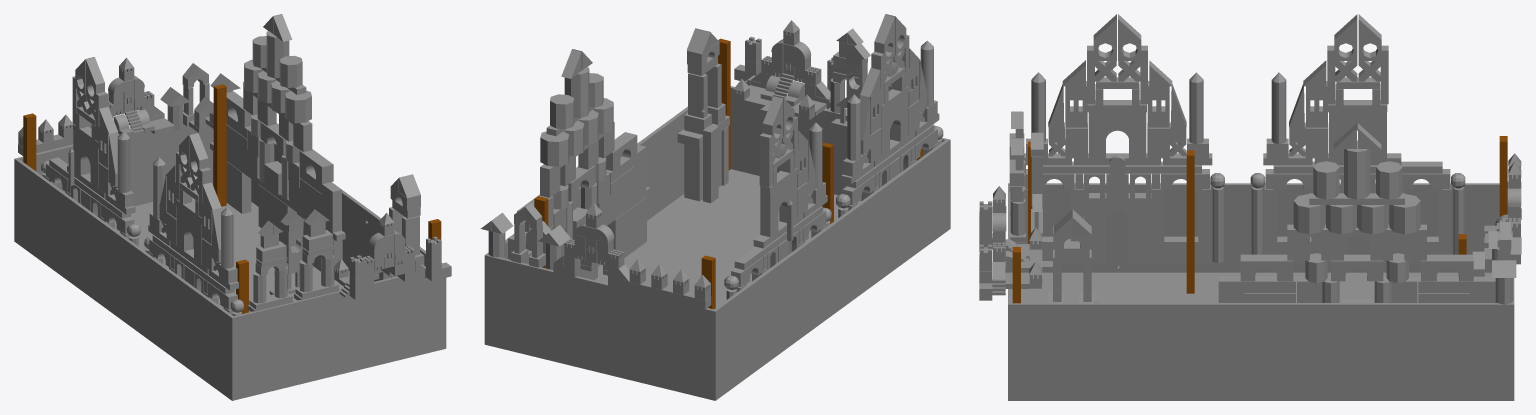
The model's file is CannonBaclkGround.fbx.
3 renders of one model, left to right at view 1: azimuth 30°, elevation 25°; view 2: azimuth 150°, elevation 25°; view 3: azimuth 270°, elevation 25°, orthographic. The views are drawn at different scales.
Parts seen in each view (by area): view 1: Box1373, Box1367, BlockBackGround640, BlockBackGround633, BlockBackGround671, BlockBackGround628, BlockBackGround478, BlockBackGround587, Box1368, BlockBackGround629, BlockBackGround549, BlockBackGround437 (+25 smaller); view 2: Box1373, Box1192, BlockBackGround690, BlockBackGround546, BlockBackGround636, BlockBackGround628, Box1371, BlockBackGround454, BlockBackGround685, BlockBackGround549, BlockBackGround630, BlockBackGround437 (+30 smaller); view 3: Box1373, BlockBackGround437, BlockBackGround442, BlockBackGround546, BlockBackGround628, Box1484, BlockBackGround440, BlockBackGround640, BlockBackGround660, BlockBackGround587, BlockBackGround642, BlockBackGround633 (+54 smaller).
Part boxes in pixels (bbox=[...]): Box1373: bbox=[14, 123, 446, 400]; Box1367: bbox=[213, 84, 226, 206]; BlockBackGround640: bbox=[299, 149, 333, 184]; BlockBackGround633: bbox=[285, 90, 311, 123]; BlockBackGround671: bbox=[232, 165, 251, 213]; BlockBackGround628: bbox=[266, 31, 289, 78]; BlockBackGround478: bbox=[221, 207, 233, 268]; BlockBackGround587: bbox=[117, 131, 129, 192]; Box1368: bbox=[23, 113, 36, 171]; BlockBackGround629: bbox=[279, 55, 302, 87]; BlockBackGround549: bbox=[49, 157, 130, 218]; BlockBackGround437: bbox=[176, 206, 202, 250]; Box1373: bbox=[484, 86, 950, 400]; Box1192: bbox=[703, 125, 718, 203]; BlockBackGround690: bbox=[684, 144, 702, 201]; BlockBackGround546: bbox=[760, 175, 796, 222]; BlockBackGround636: bbox=[540, 131, 569, 166]; BlockBackGround628: bbox=[564, 67, 589, 118]; Box1371: bbox=[718, 38, 730, 170]; BlockBackGround454: bbox=[847, 94, 860, 160]; BlockBackGround685: bbox=[688, 73, 707, 118]; BlockBackGround549: bbox=[734, 206, 822, 269]; BlockBackGround630: bbox=[550, 94, 574, 128]; BlockBackGround437: bbox=[881, 93, 908, 140]; Box1373: bbox=[1008, 183, 1514, 400]; BlockBackGround437: bbox=[1088, 111, 1146, 142]; BlockBackGround442: bbox=[1083, 193, 1152, 221]; BlockBackGround546: bbox=[1329, 111, 1386, 142]; BlockBackGround628: bbox=[1344, 140, 1370, 199]; Box1484: bbox=[1186, 150, 1194, 293]; BlockBackGround440: bbox=[1043, 161, 1201, 173]; BlockBackGround640: bbox=[1240, 254, 1293, 281]; BlockBackGround660: bbox=[1421, 254, 1473, 281]; BlockBackGround587: bbox=[1271, 72, 1286, 144]; BlockBackGround642: bbox=[1331, 254, 1383, 281]; BlockBackGround633: bbox=[1293, 194, 1324, 234].
Size of the model in its own units: 843 by 824 by 1512.
